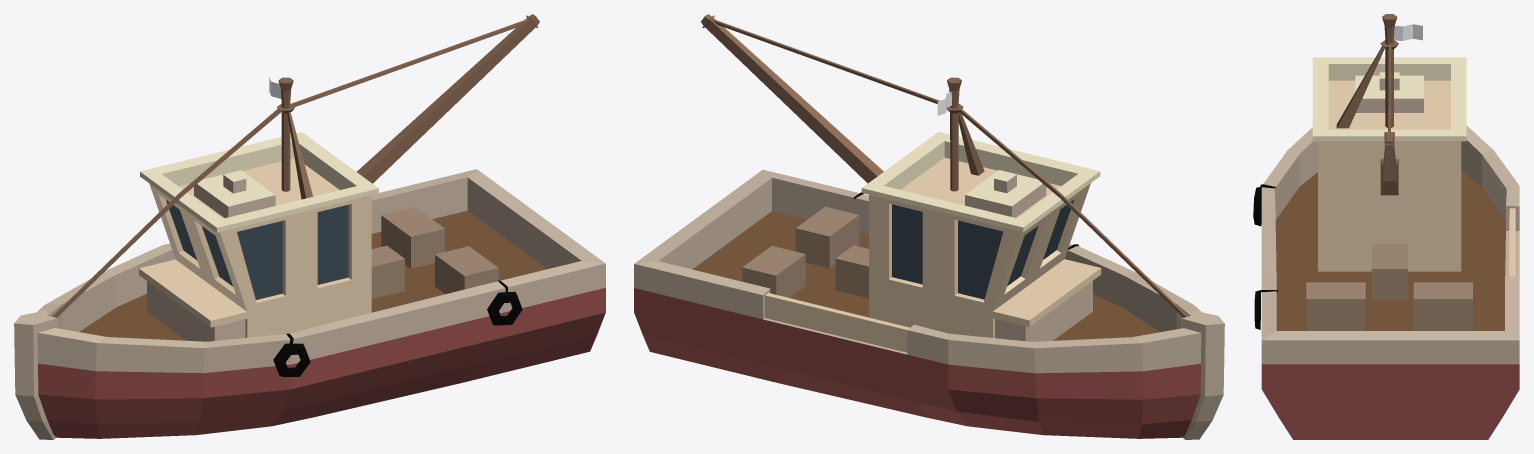
File: boat1.fbx
The picture shows the model from 3 angles, left to right: view 1: azimuth 30°, elevation 25°; view 2: azimuth 150°, elevation 25°; view 3: azimuth 270°, elevation 25°; orthographic projection.
Parts seen in each view (by area): view 1: Boat1; view 2: Boat1; view 3: Boat1.
Part boxes in pixels (box(x1,y1,x2,y2)): Boat1: box(14, 14, 605, 439); Boat1: box(634, 14, 1224, 439); Boat1: box(1253, 14, 1519, 439).
Size of the model in its own units: 848 by 468 by 371.
